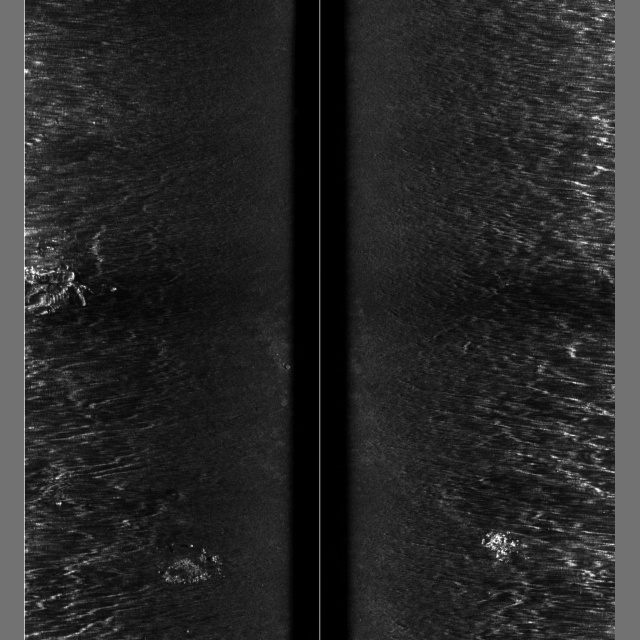Shipwreck: (24, 265, 521, 585)
